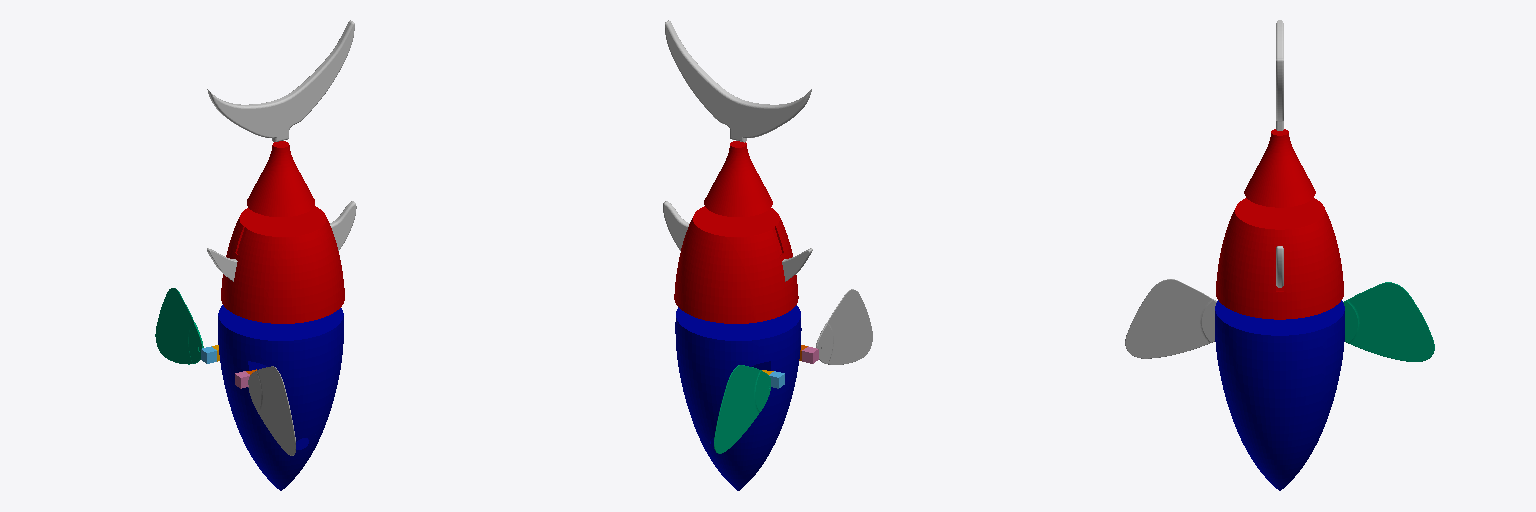
--- Render facts (derived) ---
3 views of the same robot in one strip: view 1: azimuth 30°, elevation 25°; view 2: azimuth 150°, elevation 25°; view 3: azimuth 270°, elevation 25° (orthographic).
Robot: naro — 17 links, 16 joints (9 revolute, 7 fixed); root link base_link; default pose: every joint at zero.
Links seen in each view (by area): view 1: base_link, NaroBody_2_link, Naro_caudal_fin_link, NaroBody_3_link, Naro_pectoral_fin_left_link, Naro_pectoral_fin_right_link, Naro_dorsal_fin_up_link; view 2: base_link, NaroBody_2_link, Naro_caudal_fin_link, NaroBody_3_link, Naro_pectoral_fin_left_link, Naro_pectoral_fin_right_link, Naro_dorsal_fin_up_link; view 3: base_link, NaroBody_2_link, Naro_pectoral_fin_right_link, Naro_pectoral_fin_left_link, NaroBody_3_link, Naro_caudal_fin_link.
Boxes of the visible links, left/top/right/bottom form: base_link: left=218, top=305, right=343, bottom=490; NaroBody_2_link: left=221, top=206, right=344, bottom=323; Naro_caudal_fin_link: left=207, top=20, right=354, bottom=141; NaroBody_3_link: left=247, top=141, right=314, bottom=216; Naro_pectoral_fin_left_link: left=155, top=288, right=203, bottom=364; Naro_pectoral_fin_right_link: left=248, top=366, right=295, bottom=455; Naro_dorsal_fin_up_link: left=330, top=201, right=356, bottom=250; base_link: left=675, top=305, right=801, bottom=490; NaroBody_2_link: left=674, top=206, right=798, bottom=323; Naro_caudal_fin_link: left=665, top=20, right=811, bottom=142; NaroBody_3_link: left=704, top=141, right=772, bottom=216; Naro_pectoral_fin_left_link: left=714, top=365, right=770, bottom=453; Naro_pectoral_fin_right_link: left=816, top=289, right=872, bottom=364; Naro_dorsal_fin_up_link: left=663, top=201, right=689, bottom=250; base_link: left=1215, top=300, right=1344, bottom=490; NaroBody_2_link: left=1216, top=198, right=1343, bottom=319; Naro_pectoral_fin_right_link: left=1125, top=279, right=1216, bottom=358; Naro_pectoral_fin_left_link: left=1343, top=282, right=1434, bottom=361; NaroBody_3_link: left=1244, top=129, right=1315, bottom=207; Naro_caudal_fin_link: left=1276, top=20, right=1283, bottom=130.
Bounding box of the posed robot: 0.1412 × 0.2483 × 0.4148 m (x, y, z).
Meshes: 7 distinct files referenced, 8 mesh visuals loaded (7 Collada DAE).

robot.urdf — naro:
<robot name="naro">

    <gazebo>
        <plugin name="gazebo_ros_control" filename="libgazebo_ros_control.so">
        </plugin>
    </gazebo>

	<!-- * * * Link Definitions * * * -->

    <link name="base_link">
 	    <inertial>
            <origin xyz="0 0 0.00" rpy="0 0 0"/>
            <mass value="1.639394969088" />
         <!--<mass value="1.29054912" />        -->       
            <inertia ixx="0.00508295639712" ixy="0.0" ixz="0.0" iyy="0.00507952547133" iyz="0.0" izz="0.00299176827366"/>
        </inertial>
        <collision>
            <origin rpy="0.0 0 0" xyz="0 0 0"/>
            <geometry>
                <mesh filename="package://naro_description/meshes/NaroBody_1_v3.dae"/>
            </geometry>
        </collision>
        <visual>
            <origin rpy="0.0 0 0" xyz="0 0 0"/>
            <geometry>
                <mesh filename="package://naro_description/meshes/NaroBody_1_v3.dae"/>
            </geometry>
        </visual>
	</link>
<!--camera-->
    <link name="camera">
        <inertial>
            <origin xyz="0 0 0" rpy="0 0 0"/>
            <mass value="0.001" />
         <!--<mass value="1.29054912" />        -->       
<inertia ixx="1.68373333333e-06" ixy="0.0" ixz="0.0" iyy="1.68373333333e-06" iyz="0.0" izz="1.68373333333e-06"/>
        </inertial>
        <collision>
            <origin rpy="0.0 0 0" xyz="0 0 0"/>
            <geometry>
                <box size="0.01 0.01 0.01" />
            </geometry>
        </collision>
        <visual>
            <origin rpy="0.0 0 0" xyz="0 0 0"/>
            <geometry>
                <box size="0.01 0.01 0.01" />
            </geometry>
        </visual>
	</link>
    <joint name="camera_joint" type="fixed">
    	<parent link="base_link"/>
    	<child link="camera"/>
        <origin xyz="0.015 0 -0.09" rpy="0 1.57 0"/>
	</joint>
    <gazebo reference="base_link">
        <kp>1000000.0</kp>
        <kd>1000000.0</kd>
        <mu1>10.0</mu1>
        <mu2>10.0</mu2>
    </gazebo>
    <gazebo reference="camera">
        <kp>1000000.0</kp>
        <kd>1000000.0</kd>
        <mu1>10.0</mu1>
        <mu2>10.0</mu2>
    </gazebo>
    
    <link name="NaroBody_2_link">
 	    <inertial>
            <origin xyz="0 0 0.0" rpy="0 0 0"/>
            <mass value="0.79" />
            <inertia ixx="0.00104500094658" ixy="0.0" ixz="0.0" iyy="0.00104595159967" iyz="0.0" izz="0.00140078747958"/>
        </inertial>
        <collision>
            <origin xyz="0 0 0" rpy="0 0 0"/>
            <geometry>
                <mesh filename="package://naro_description/meshes/NaroBody_2_v2.dae"/>
            </geometry>
        </collision>
        <visual>
            <origin xyz="0 0 0" rpy="0 0 0"/>
            <geometry>
                <mesh filename="package://naro_description/meshes/NaroBody_2_v2.dae"/>
            </geometry>
        </visual>
	</link>
    <!-- This is for color and physical properties in Gazebo, color won't work with the material tag in gazebo
    only for URDF coloring -->
    <gazebo reference="NaroBody_2_link">
        <kp>1000000.0</kp>
        <kd>1000000.0</kd>
        <mu1>10.0</mu1>
        <mu2>10.0</mu2>
    </gazebo>

    <joint name="NaroBody_1_NaroBody_2_joint" type="revolute">
    	<parent link="base_link"/>
    	<child link="NaroBody_2_link"/>
        <origin xyz="0 0 0.015" rpy="0 0 0"/>
        <limit lower="-0.5" upper="0.5" effort="0.3" velocity="5.5"/>
        <axis xyz="1 0 0"/>
	</joint>
	
    <transmission name="tran1">
        <type>transmission_interface/SimpleTransmission</type>
        <joint name="NaroBody_1_NaroBody_2_joint">
        <!--    <hardwareInterface>EffortJointInterface</hardwareInterface>-->
         <hardwareInterface>EffortJointInterface</hardwareInterface>
        </joint>
        <actuator name="motor1">
         <hardwareInterface>EffortJointInterface</hardwareInterface>
            <mechanicalReduction>1</mechanicalReduction>
        </actuator>
    </transmission>

    <link name="NaroBody_3_link">
 	    <inertial>
            <origin xyz="0 0 0.0" rpy="0 0 0"/>
            <mass value="0.185" />
            <inertia ixx="9.47004054167e-05" ixy="0.0" ixz="0.0" iyy="9.46651320833e-05" iyz="0.0" izz="0.000100881736417"/>
        </inertial>
        <collision>
            <origin xyz="0 0 0" rpy="0 0 0"/>
            <geometry>
                <mesh filename="package://naro_description/meshes/NaroBody_3.dae"/>
            </geometry>
        </collision>
        <visual>
            <origin xyz="0 0 0" rpy="0 0 0"/>
            <geometry>
                <mesh filename="package://naro_description/meshes/NaroBody_3.dae"/>
            </geometry>
        </visual>
	</link>
    <!-- This is for color and physical properties in Gazebo, color won't work with the material tag in gazebo
    only for URDF coloring -->
    <gazebo reference="NaroBody_3_link">
        <kp>1000000.0</kp>
        <kd>1000000.0</kd>
        <mu1>10.0</mu1>
        <mu2>10.0</mu2>
    </gazebo>

    <joint name="NaroBody_2_NaroBody_3_joint" type="revolute">
    	<parent link="NaroBody_2_link"/>
    	<child link="NaroBody_3_link"/>
        <origin xyz="0 0 0.0874" rpy="0 0 0"/>
        <limit lower="-0.5" upper="0.5" effort="0.2" velocity="5.5"/>
        <axis xyz="1 0 0"/>
	</joint>
	
    <transmission name="tran2">
        <type>transmission_interface/SimpleTransmission</type>
        <joint name="NaroBody_2_NaroBody_3_joint">
         <hardwareInterface>EffortJointInterface</hardwareInterface>
        </joint>
        <actuator name="motor2">
         <hardwareInterface>EffortJointInterface</hardwareInterface>
            <!--<hardwareInterface>EffortJointInterface</hardwareInterface>-->
            <mechanicalReduction>1</mechanicalReduction>
        </actuator>
    </transmission>
    
    
    <link name="Naro_caudal_fin_link">
 	    <inertial>
            <origin xyz="0 0 0.00" rpy="0 0 0"/>
            <mass value="0.122" />

            <inertia ixx="0.000284936540833" ixy="0.0" ixz="0.0" iyy="8.80707436833e-05" iyz="0.0" izz="0.000197862130483"/>
        </inertial>
        <collision>
            <origin xyz="0 0 0" rpy="0 0 0"/>
            <geometry>
                <mesh filename="package://naro_description/meshes/Naro_caudal_fin_v2.dae"/>
            </geometry>
        </collision>
        <visual>
            <origin xyz="0 0 0" rpy="0 0 0"/>
            <geometry>
                <mesh filename="package://naro_description/meshes/Naro_caudal_fin_v2.dae"/>
            </geometry>
        </visual>
	</link>
    <!-- This is for color and physical properties in Gazebo, color won't work with the material tag in gazebo
    only for URDF coloring -->
    <gazebo reference="Naro_caudal_fin_link">
        <kp>1000000.0</kp>
        <kd>1000000.0</kd>
        <mu1>10.0</mu1>
        <mu2>10.0</mu2>
    </gazebo>

    <joint name="NaroBody_3_Naro_caudal_fin_joint" type="revolute">
    	<parent link="NaroBody_3_link"/>
    	<child link="Naro_caudal_fin_link"/>
        <origin xyz="0 0 0.05757" rpy="0 0 0"/>
        <limit lower="-1.0" upper="1.0" effort="0.2" velocity="5.5"/>
        <axis xyz="1 0 0"/>
	</joint>
	
    <transmission name="tran3">
        <type>transmission_interface/SimpleTransmission</type>
        <joint name="NaroBody_3_Naro_caudal_fin_joint">
         <hardwareInterface>EffortJointInterface</hardwareInterface>
        </joint>
        <actuator name="motor3">
         <hardwareInterface>EffortJointInterface</hardwareInterface>
            <!--<hardwareInterface>EffortJointInterface</hardwareInterface>-->
            <mechanicalReduction>1</mechanicalReduction>
        </actuator>
    </transmission>
    
    
<!--3-dof Naro_pectoral_fin_right_link!-->    
    <link name="Naro_pectoral_fin_right_link_freedom1">
 	    <inertial>
            <origin xyz="0 0 0" rpy="0 0 0"/>
            <mass value="0.101024" />
<inertia ixx="1.68373333333e-06" ixy="0.0" ixz="0.0" iyy="1.68373333333e-06" iyz="0.0" izz="1.68373333333e-06"/>
        </inertial>
        <collision>
            <origin xyz="0 0 0" rpy="0 0 0"/>
            <geometry>
                <box size="0.01 0.01 0.01" />
            </geometry>
        </collision>
        <visual>
            <origin xyz="0 0 0" rpy="0 0 0"/>
            <geometry>
               <box size="0.01 0.01 0.01" />
            </geometry>
            <material name="purple"/>
        </visual>

	</link>
    <joint name="NaroBody_1_Naro_pectoral_fin_right_joint_1" type="revolute">
    	<parent link="base_link"/>
    	<child link="Naro_pectoral_fin_right_link_freedom1"/>
        <origin xyz="-0.04275 -0.028 -0.03622" rpy="1.5707963267948966 0 0"/>
        <limit lower="-1.0" upper="1.0" effort="0.2" velocity="1.5"/>
        <axis xyz="0 1 0"/>
	</joint>
    
    <link name="Naro_pectoral_fin_right_link_freedom2">
 	    <inertial>
            <origin xyz="0 0 0" rpy="0 0 0"/>
            <mass value="0.001024" />
            <inertia ixx="1.68373333333e-06" ixy="0.0" ixz="0.0" iyy="1.68373333333e-06" iyz="0.0" izz="1.68373333333e-06"/>
        </inertial>
        <collision>
            <origin xyz="0 0 0" rpy="0 0 0"/>
            <geometry>
                <box size="0.01 0.01 0.01" />
            </geometry>
        </collision>
        <visual>
            <origin xyz="0 0 0" rpy="0 0 0"/>
            <geometry>
               <box size="0.01 0.01 0.01" />
            </geometry>
            <material name="purple"/>
        </visual>
	</link>
    <joint name="NaroBody_1_Naro_pectoral_fin_right_joint_2" type="revolute">
    	<parent link="Naro_pectoral_fin_right_link_freedom1"/>
    	<child link="Naro_pectoral_fin_right_link_freedom2"/>
        <origin xyz="-0.01 0 0" rpy="0 0 0"/>
        <limit lower="-1.0" upper="1.0" effort="0.2" velocity="1.5"/>
        <axis xyz="1 0 0"/>
	</joint>



    <link name="Naro_pectoral_fin_right_link">
 	    <inertial>
            <origin xyz="0 0 0.04" rpy="0 0 0"/>
            <mass value="0.01" />   
            <inertia ixx="9.24708616667e-06" ixy="0.0" ixz="0.0" iyy="4.87263541667e-06" iyz="0.0" izz="4.37871741667e-06"/>
        </inertial>
        <collision>
            <origin xyz="0 0 0" rpy="0 0 0"/>
            <geometry>
                <mesh filename="package://naro_description/meshes/pectoral_fin.dae"/>                
            </geometry>
        </collision>
        <visual>
            <origin xyz="0 0 0" rpy="0 0 0"/>
            <geometry>
                <mesh filename="package://naro_description/meshes/pectoral_fin.dae"/>
            </geometry>
            <material name="purple"/>
        </visual>
	</link>
    <!-- This is for color and physical properties in Gazebo, color won't work with the material tag in gazebo
    only for URDF coloring -->
    <gazebo reference="Naro_pectoral_fin_right_link_freedom1">
        <kp>1000000.0</kp>
        <kd>1000000.0</kd>
        <mu1>10.0</mu1>
        <mu2>10.0</mu2>
        <material>Gazebo/Purple</material>
    </gazebo>
    <gazebo reference="Naro_pectoral_fin_right_link_freedom2">
        <kp>1000000.0</kp>
        <kd>1000000.0</kd>
        <mu1>10.0</mu1>
        <mu2>10.0</mu2>
        <material>Gazebo/Purple</material>
    </gazebo>
        <gazebo reference="Naro_pectoral_fin_right_link">
        <kp>1000000.0</kp>
        <kd>1000000.0</kd>
        <mu1>10.0</mu1>
        <mu2>10.0</mu2>
        <material>Gazebo/Purple</material>




    </gazebo>
    <joint name="NaroBody_1_Naro_pectoral_fin_right_joint_3" type="revolute">
    	<parent link="Naro_pectoral_fin_right_link_freedom2"/>
    	<child link="Naro_pectoral_fin_right_link"/>
        <origin xyz="0 0. 0.01" rpy="0 0 0"/>
        <limit lower="-1.57" upper="1.57" effort="0.7" velocity="1.5"/>
        <axis xyz="0 0 1"/>
	</joint>
    <transmission name="tran4_joint1">
        <type>transmission_interface/SimpleTransmission</type>
        <joint name="NaroBody_1_Naro_pectoral_fin_right_joint_1">
            <hardwareInterface>EffortJointInterface</hardwareInterface>
        </joint>
        <actuator name="motor4_1">
            <hardwareInterface>EffortJointInterface</hardwareInterface>
            <mechanicalReduction>1</mechanicalReduction>
        </actuator>
    </transmission>
    <transmission name="tran4_joint2">
        <type>transmission_interface/SimpleTransmission</type>
        <joint name="NaroBody_1_Naro_pectoral_fin_right_joint_2">
            <hardwareInterface>EffortJointInterface</hardwareInterface>
        </joint>
        <actuator name="motor4_2">
            <hardwareInterface>EffortJointInterface</hardwareInterface>
            <mechanicalReduction>1</mechanicalReduction>
        </actuator>
    </transmission>	
    <transmission name="tran4_joint3">
        <type>transmission_interface/SimpleTransmission</type>
        <joint name="NaroBody_1_Naro_pectoral_fin_right_joint_3">
            <hardwareInterface>EffortJointInterface</hardwareInterface>
        </joint>
        <actuator name="motor4_3">
            <hardwareInterface>EffortJointInterface</hardwareInterface>
            <mechanicalReduction>1</mechanicalReduction>
        </actuator>
    </transmission>
    
<!--3-dof Naro_pectoral_fin_left_link!--> 
    <link name="Naro_pectoral_fin_left_link_freedom1">
 	    <inertial>
            <origin xyz="0 0 0" rpy="0 0 0"/>
            <mass value="0.101024" />
<inertia ixx="1.68373333333e-06" ixy="0.0" ixz="0.0" iyy="1.68373333333e-06" iyz="0.0" izz="1.68373333333e-06"/>
        </inertial>
        <collision>
            <origin xyz="0 0 0" rpy="0 0 0"/>
            <geometry>
                <box size="0.01 0.01 0.01" />
            </geometry>
        </collision>
        <visual>
            <origin xyz="0 0 0" rpy="0 0 0"/>
            <geometry>
               <box size="0.01 0.01 0.01" />
            </geometry>
            <material name="purple"/>
        </visual>
	</link>
    <joint name="NaroBody_1_Naro_pectoral_fin_left_joint_1" type="revolute">
    	<parent link="base_link"/>
    	<child link="Naro_pectoral_fin_left_link_freedom1"/>
        <origin xyz="-0.04275 0.028 -0.03622" rpy="-1.5707963267948966 0 0"/>
        <limit lower="-1.0" upper="1.0" effort="0.2" velocity="1.5"/>
        <axis xyz="1 0 0"/>
	</joint>
    
    <link name="Naro_pectoral_fin_left_link_freedom2">
 	    <inertial>
            <origin xyz="0 0 0" rpy="0 0 0"/>
            <mass value="0.001024" />
            <inertia ixx="1.68373333333e-06" ixy="0.0" ixz="0.0" iyy="1.68373333333e-06" iyz="0.0" izz="1.68373333333e-06"/>
        </inertial>
        <collision>
            <origin xyz="0 0 0" rpy="0 0 0"/>
            <geometry>
                <box size="0.01 0.01 0.01" />
            </geometry>
        </collision>
        <visual>
            <origin xyz="0 0 0" rpy="0 0 0"/>
            <geometry>
               <box size="0.01 0.01 0.01" />
            </geometry>
            <material name="purple"/>
        </visual>
	</link>
    <joint name="NaroBody_1_Naro_pectoral_fin_left_joint_2" type="revolute">
    	<parent link="Naro_pectoral_fin_left_link_freedom1"/>
    	<child link="Naro_pectoral_fin_left_link_freedom2"/>
        <origin xyz="-0.01 0 0" rpy="0 0 0"/>
        <limit lower="-1" upper="1" effort="0.2" velocity="1.5"/>
        <axis xyz="0 1 0"/>
	</joint>
    <link name="Naro_pectoral_fin_left_link">
 	    <inertial>
            <origin xyz="0 0.0 0.04" rpy="0 0 0"/>
         <mass value="0.01" />   
            <inertia ixx="9.24708616667e-06" ixy="0.0" ixz="0.0" iyy="4.87263541667e-06" iyz="0.0" izz="4.37871741667e-06"/>
        </inertial>
        <collision>
            <origin xyz="0 0 0" rpy="0 0 0"/>
            <geometry>
                <mesh filename="package://naro_description/meshes/pectoral_fin.dae"/>
            </geometry>
        </collision>
        <visual>
            <origin xyz="0 0 0" rpy="0 0 0"/>
            <geometry>
                <mesh filename="package://naro_description/meshes/pectoral_fin.dae"/>
            </geometry>
            <material name="purple"/>
        </visual>
	</link>
    <!-- This is for color and physical properties in Gazebo, color won't work with the material tag in gazebo
    only for URDF coloring -->
    <gazebo reference="Naro_pectoral_fin_left_link_freedom1">
        <kp>1000000.0</kp>
        <kd>1000000.0</kd>
        <mu1>10.0</mu1>
        <mu2>10.0</mu2>
        <material>Gazebo/Purple</material>
    </gazebo>
    <gazebo reference="Naro_pectoral_fin_left_link_freedom2">
        <kp>1000000.0</kp>
        <kd>1000000.0</kd>
        <mu1>10.0</mu1>
        <mu2>10.0</mu2>
        <material>Gazebo/Purple</material>
    </gazebo>
    <gazebo reference="Naro_pectoral_fin_left_link">
        <kp>1000000.0</kp>
        <kd>1000000.0</kd>
        <mu1>10.0</mu1>
        <mu2>10.0</mu2>
        <material>Gazebo/Purple</material>



    </gazebo>

    <joint name="NaroBody_1_Naro_pectoral_fin_left_joint_3" type="revolute">
    	<parent link="Naro_pectoral_fin_left_link_freedom2"/>
    	<child link="Naro_pectoral_fin_left_link"/>
        <origin xyz="0 0 0.01" rpy="0 0 3.14"/>
        <limit lower="-1.57" upper="1.57" effort="0.7" velocity="1.5"/>
        <axis xyz="0 0 1"/>
	</joint>
	
    <transmission name="tran5_freedom1">
        <type>transmission_interface/SimpleTransmission</type>
        <joint name="NaroBody_1_Naro_pectoral_fin_left_joint_1">
            <hardwareInterface>EffortJointInterface</hardwareInterface>
        </joint>
        <actuator name="motor5_1">
            <hardwareInterface>EffortJointInterface</hardwareInterface>
            <mechanicalReduction>1</mechanicalReduction>
        </actuator>
    </transmission>
    <transmission name="tran5_freedom2">
        <type>transmission_interface/SimpleTransmission</type>
        <joint name="NaroBody_1_Naro_pectoral_fin_left_joint_2">
            <hardwareInterface>EffortJointInterface</hardwareInterface>
        </joint>
        <actuator name="motor5_2">
            <hardwareInterface>EffortJointInterface</hardwareInterface>
            <mechanicalReduction>1</mechanicalReduction>
        </actuator>
    </transmission>
    <transmission name="tran5_freedom3">
        <type>transmission_interface/SimpleTransmission</type>
        <joint name="NaroBody_1_Naro_pectoral_fin_left_joint_3">
            <hardwareInterface>EffortJointInterface</hardwareInterface>
        </joint>
        <actuator name="motor5_3">
            <hardwareInterface>EffortJointInterface</hardwareInterface>
            <mechanicalReduction>1</mechanicalReduction>
        </actuator>
    </transmission>
        
    <link name="Naro_dorsal_fin_up_link">
 	    <inertial>
            <origin xyz="0 0 0" rpy="0 0 0"/>
            <mass value="0.0065659994112" />
            <inertia ixx="1.62753862297e-06" ixy="0.0" ixz="0.0" iyy="8.85560936788e-07" iyz="0.0" izz="7.81373682648e-07"/>
        </inertial>
        <collision>
            <origin xyz="0 0 0" rpy="0 0 0"/>
            <geometry>
                <mesh filename="package://naro_description/meshes/Naro_dorsal_fin_up.dae"/>
            </geometry>
        </collision>
        <visual>
            <origin xyz="0 0 0" rpy="0 0 0"/>
            <geometry>
                <mesh filename="package://naro_description/meshes/Naro_dorsal_fin_up.dae"/>
            </geometry>
        </visual>
	</link>
	
	<gazebo reference="Naro_dorsal_fin_up_link">
        <kp>1000000.0</kp>
        <kd>1000000.0</kd>
        <mu1>10.0</mu1>
        <mu2>10.0</mu2>
    </gazebo>
    
    <joint name="NaroBody_1_Naro_dorsal_fin_up_joint" type="fixed">
        <parent link="NaroBody_2_link"/>
        <child link="Naro_dorsal_fin_up_link"/>
        <origin xyz="0.04088 0 0.04053" rpy="0 1.3 0"/>
    </joint>
    
    
        <link name="Naro_dorsal_fin_down_link">
 	    <inertial>
            <origin xyz="0 0 0" rpy="0 0 0"/>
            <mass value="0.0065659994112" />
            <inertia ixx="1.62753862297e-06" ixy="0.0" ixz="0.0" iyy="8.85560936788e-07" iyz="0.0" izz="7.81373682648e-07"/>
        </inertial>
        <collision>
            <origin xyz="0 0 0" rpy="0 0 0"/>
            <geometry>
                <mesh filename="package://naro_description/meshes/Naro_dorsal_fin_down_v2.dae"/>
            </geometry>
        </collision>
        <visual>
            <origin xyz="0 0 0" rpy="0 0 0"/>
            <geometry>
                <mesh filename="package://naro_description/meshes/Naro_dorsal_fin_down_v2.dae"/>
            </geometry>
            <material name="purple"/>
        </visual>
	</link>
	
	<gazebo reference="Naro_dorsal_fin_down_link">
        <kp>1000000.0</kp>
        <kd>1000000.0</kd>
        <mu1>10.0</mu1>
        <mu2>10.0</mu2>
    </gazebo>
    
    <joint name="NaroBody_1_Naro_dorsal_fin_down_joint" type="fixed">
        <parent link="NaroBody_2_link"/>
        <child link="Naro_dorsal_fin_down_link"/>
        <origin xyz="-0.04088 0 0.0362" rpy="0 -1.5707963267948966 0"/>
    </joint>


    <gazebo>
          <plugin name="lifting_surface4_1" filename="libLiftDragPlugin.so">

        <!-- taken from the lift curve figure -->
        <!-- alpha_0 is 5 degrees -->
        <a0>0</a0>
        <!-- alpha_stall is 19.3 degrees -->
        <alpha_stall>1.0</alpha_stall>
        <!-- slope of the lift curve to the left of the stall angle -->
        <cla>0</cla>
        <!-- slope of the lift curve to the right of the stall angle -->
        <cla_stall>0</cla_stall>

        <!-- below are just random values in this example -->
        <cda>0</cda>
        <cda_stall>1.1</cda_stall>
        <cma>1.5</cma>
        <cma_stall>0.0</cma_stall>
        <area>0.20</area>
        <fluid_density>1024.1</fluid_density>
        <forward>-1 0 0</forward>
        <upward>0 1 0</upward>
        <cp>0 0 0</cp>
        <link_name>base_link</link_name>
        <radial_symmetry>false</radial_symmetry>
      </plugin>
</gazebo>

    <gazebo>
          <plugin name="lifting_surface4_2" filename="libLiftDragPlugin.so">

        <!-- taken from the lift curve figure -->
        <!-- alpha_0 is 5 degrees -->
        <a0>0</a0>
        <!-- alpha_stall is 19.3 degrees -->
        <alpha_stall>1.0</alpha_stall>
        <!-- slope of the lift curve to the left of the stall angle -->
        <cla>0</cla>
        <!-- slope of the lift curve to the right of the stall angle -->
        <cla_stall>0</cla_stall>

        <!-- below are just random values in this example -->
        <cda>0</cda>
        <cda_stall>1.1</cda_stall>
        <cma>10.5</cma>
        <cma_stall>10.1</cma_stall>
        <area>0.20</area>
        <fluid_density>1024.1</fluid_density>
        <forward>-1 0 0</forward>
        <upward>0 0 1</upward>
        <cp>0 0 0</cp>
        <link_name>base_link</link_name>
        <radial_symmetry>false</radial_symmetry>
      </plugin>

    </gazebo>


        <gazebo>
          <plugin name="lifting_surface4_3" filename="libLiftDragPlugin.so">

        <!-- taken from the lift curve figure -->
        <!-- alpha_0 is 5 degrees -->
        <a0>0</a0>
        <!-- alpha_stall is 19.3 degrees -->
        <alpha_stall>1.0</alpha_stall>
        <!-- slope of the lift curve to the left of the stall angle -->
        <cla>0</cla>
        <!-- slope of the lift curve to the right of the stall angle -->
        <cla_stall>0</cla_stall>

        <!-- below are just random values in this example -->
        <cda>0</cda>
        <cda_stall>1.1</cda_stall>
        <cma>10.5</cma>
        <cma_stall>10.1</cma_stall>
        <area>0.20</area>
        <fluid_density>1024.1</fluid_density>
        <forward>0 -1 0</forward>
        <upward>0 0 1</upward>
        <cp>0 0 0</cp>
        <link_name>base_link</link_name>
        <radial_symmetry>false</radial_symmetry>
      </plugin>

    </gazebo>



    <gazebo>
      <plugin name="lifting_surface5" filename="libLiftDragPlugin.so">

        <!-- taken from the lift curve figure -->
        <!-- alpha_0 is 5 degrees -->
        <a0>0</a0>
        <!-- alpha_stall is 19.3 degrees -->
        <alpha_stall>1.57</alpha_stall>
        <!-- slope of the lift curve to the left of the stall angle -->
        <cla>0</cla>
        <!-- slope of the lift curve to the right of the stall angle -->
        <cla_stall>0</cla_stall>

        <!-- below are just random values in this example -->
        <cda>0</cda>
        <cda_stall>0</cda_stall>

        <area>0.20</area>
        <fluid_density>1024.1</fluid_density>
        <forward>-1 0 0</forward>
        <upward>0 1 0</upward>
        <cp>0 0 0</cp>
        <link_name>NaroBody_3_link</link_name>
        <radial_symmetry>false</radial_symmetry>
      </plugin>
    </gazebo>

    <gazebo>
      <plugin name="lifting_surface3" filename="libLiftDragPlugin.so">
            <air_density>1024</air_density>
	        <cla>0</cla>
	        <cla_stall>0</cla_stall>
	        <cda>3</cda>
	        <cda_stall>3</cda_stall>
	        <alpha_stall>0.7</alpha_stall>
	        <a0>0</a0>
            <area>0.3034265458342</area>
        <!-- below are just random values in this example -->
        <forward>-1 0 0</forward>
        <upward>0 1 0</upward>
        <cp>0 0.07 0</cp>
        <link_name>Naro_caudal_fin_link</link_name>
        <radial_symmetry>false</radial_symmetry>
      </plugin>
    </gazebo>

    <gazebo>
      <plugin name="lifting_surface1" filename="libLiftDragPlugin.so">
        <a0>0</a0>
        <alpha_stall>0.7</alpha_stall>
        <cla>3</cla>
        <cla_stall>-0.3</cla_stall>
        <cda>1.4</cda>
        <cda_stall>0</cda_stall>
        <air_density>1024</air_density>
        <area>0.006</area>
        <forward>0 -1 0</forward>
        <upward>-1 0 0</upward>
        <cp>0 0.0 0.04</cp>
        <link_name>Naro_pectoral_fin_left_link</link_name>
        <radial_symmetry>false</radial_symmetry>
      </plugin>    
    
    </gazebo>
    <gazebo>
    <plugin name="lifting_surface2" filename="libLiftDragPlugin.so">
        <a0>0</a0>
        <alpha_stall>0.7</alpha_stall>
        <cla>1.4</cla>
        <cla_stall>-0.3</cla_stall>
        <cda>1.4</cda>
        <cda_stall>0</cda_stall>
        <area>0.006</area>
        <air_density>1024</air_density>
        <cp>0 0.0 0.04</cp>
        <forward>0 -1 0</forward>
        <upward>1 0 0</upward>
        <link_name>Naro_pectoral_fin_right_link</link_name>
        <radial_symmetry>false</radial_symmetry>
      </plugin>
    

    </gazebo>
<!--fuli-->
    <gazebo>
          <plugin name="BuoyancyPlugin1" filename="libBuoyancyPlugin.so">
            <!-- a viscous liquid -->
            <fluid_density>1024</fluid_density>
        </plugin>
    </gazebo>
<!--IMU sensor-->
  <gazebo reference="camera">
    <gravity>true</gravity>
    <sensor name="imu_sensor" type="imu">
      <always_on>true</always_on>
      <update_rate>100</update_rate>
      <visualize>true</visualize>
      <topic>__default_topic__</topic>
      <plugin filename="libgazebo_ros_imu_sensor.so" name="imu_plugin">
        <topicName>imu</topicName>
        <bodyName>base_link</bodyName>
        <updateRateHZ>10.0</updateRateHZ>
        <gaussianNoise>0.0</gaussianNoise>
        <xyzOffset>0 0 0</xyzOffset>
        <rpyOffset>0 0 0</rpyOffset>
        <frameName>camera</frameName>
      </plugin>
      <pose>0 0 0 0 0 0</pose>
    </sensor>
  </gazebo>
<!--sonars-->
    <link name="sonar2">
        <inertial>
            <origin xyz="0 0 0" rpy="0 0 0"/>
            <mass value="0.001" />      
<inertia ixx="1.68373333333e-06" ixy="0.0" ixz="0.0" iyy="1.68373333333e-06" iyz="0.0" izz="1.68373333333e-06"/>
        </inertial>
        <collision>
            <origin rpy="0.0 0 0" xyz="0 0 0"/>
            <geometry>
                <box size="0.01 0.01 0.01" />
            </geometry>
        </collision>
        <visual>
            <origin rpy="0.0 0 0" xyz="0 0 0"/>
            <geometry>
                <box size="0.01 0.01 0.01" />
            </geometry>
        </visual>
	</link>
    <joint name="sonar_joint2" type="fixed">
    	<parent link="camera"/>
    	<child link="sonar2"/>
        <origin xyz="0.0 0 0.0" rpy="0 0 -0.4"/>
	</joint>
    <link name="sonar1">
        <inertial>
            <origin xyz="0 0 0" rpy="0 0 0"/>
            <mass value="0.001" />
         <!--<mass value="1.29054912" />        -->       
<inertia ixx="1.68373333333e-06" ixy="0.0" ixz="0.0" iyy="1.68373333333e-06" iyz="0.0" izz="1.68373333333e-06"/>
        </inertial>
        <collision>
            <origin rpy="0.0 0 0" xyz="0 0 0"/>
            <geometry>
                <box size="0.01 0.01 0.01" />
            </geometry>
        </collision>
        <visual>
            <origin rpy="0.0 0 0" xyz="0 0 0"/>
            <geometry>
                <box size="0.01 0.01 0.01" />
            </geometry>
        </visual>
	</link>
    <joint name="sonar_joint1" type="fixed">
    	<parent link="camera"/>
    	<child link="sonar1"/>
        <origin xyz="0.0 0 0.0" rpy="0 0 0.4"/>
	</joint>
    <gazebo reference="sonar1">
        <kp>1000000.0</kp>
        <kd>1000000.0</kd>
        <mu1>10.0</mu1>
        <mu2>10.0</mu2>
    </gazebo>
    <gazebo reference="sonar2">
        <kp>1000000.0</kp>
        <kd>1000000.0</kd>
        <mu1>10.0</mu1>
        <mu2>10.0</mu2>
    </gazebo>

    <link name="sonar3">
        <inertial>
            <origin xyz="0 0 0" rpy="0 0 0"/>
            <mass value="0.001" />
         <!--<mass value="1.29054912" />        -->       
<inertia ixx="1.68373333333e-06" ixy="0.0" ixz="0.0" iyy="1.68373333333e-06" iyz="0.0" izz="1.68373333333e-06"/>
        </inertial>
        <collision>
            <origin rpy="0.0 0 0" xyz="0 0 0"/>
            <geometry>
                <box size="0.01 0.01 0.01" />
            </geometry>
        </collision>
        <visual>
            <origin rpy="0.0 0 0" xyz="0 0 0"/>
            <geometry>
                <box size="0.01 0.01 0.01" />
            </geometry>
        </visual>
	</link>
    <joint name="sonar_joint3" type="fixed">
    	<parent link="camera"/>
    	<child link="sonar3"/>
        <origin xyz="0.0 0 0.0" rpy="0 -0.4 0"/>
	</joint>

    <link name="sonar4">
        <inertial>
            <origin xyz="0 0 0" rpy="0 0 0"/>
            <mass value="0.001" />
         <!--<mass value="1.29054912" />        -->       
<inertia ixx="1.68373333333e-06" ixy="0.0" ixz="0.0" iyy="1.68373333333e-06" iyz="0.0" izz="1.68373333333e-06"/>
        </inertial>
        <collision>
            <origin rpy="0.0 0 0" xyz="0 0 0"/>
            <geometry>
                <box size="0.01 0.01 0.01" />
            </geometry>
        </collision>
        <visual>
            <origin rpy="0.0 0 0" xyz="0 0 0"/>
            <geometry>
                <box size="0.01 0.01 0.01" />
            </geometry>
        </visual>
	</link>
    <joint name="sonar_joint4" type="fixed">
    	<parent link="camera"/>
    	<child link="sonar4"/>
        <origin xyz="0.0 0 0.0" rpy="0 0.4 0"/>
	</joint>
    <gazebo reference="sonar3">
        <kp>1000000.0</kp>
        <kd>1000000.0</kd>
        <mu1>10.0</mu1>
        <mu2>10.0</mu2>
    </gazebo>
    <gazebo reference="sonar4">
        <kp>1000000.0</kp>
        <kd>1000000.0</kd>
        <mu1>10.0</mu1>
        <mu2>10.0</mu2>
    </gazebo>




    <gazebo reference="camera">
      <sensor type="ray" name="sonar">
        <visualize>false</visualize>
        <update_rate>50</update_rate>
        <ray>
          <scan>
            <horizontal>
              <samples>10</samples>
              <resolution>1</resolution> 
              <min_angle>-0.05</min_angle>
              <max_angle>0.05</max_angle>
            </horizontal>
            <vertical>
              <samples>10</samples>
              <resolution>1</resolution> 
              <min_angle>-0.05</min_angle>
              <max_angle>0.05</max_angle> 
            </vertical>
          </scan>
          <range>
            <min>0.10</min>
            <max>3.5</max>
            <resolution>0.02</resolution>
          </range>
        </ray>
        <plugin filename="libgazebo_ros_range.so" name="gazebo_ros_range">
          <gaussianNoise>0.005</gaussianNoise>
          <alwaysOn>true</alwaysOn>
          <updateRate>50</updateRate>
          <topicName>sonar</topicName>
          <frameName>camera</frameName>
          <radiation>ultrasound</radiation>
          <fov>0.5</fov>
        </plugin>
      </sensor>
    </gazebo>

    <gazebo reference="sonar1">
      <sensor type="ray" name="sonar1">
        <origin xyz="0 0 0" rpy="0 0 -0.4"/>
        <visualize>false</visualize>
        <update_rate>50</update_rate>
        <ray>
          <scan>
            <horizontal>
              <samples>10</samples>
              <resolution>1</resolution> 
              <min_angle>-0.05</min_angle>
              <max_angle>0.05</max_angle>
            </horizontal>
            <vertical>
              <samples>10</samples>
              <resolution>1</resolution> 
              <min_angle>-0.05</min_angle>
              <max_angle>0.05</max_angle> 
            </vertical>
          </scan>
          <range>
            <min>0.10</min>
            <max>3.0</max>
            <resolution>0.02</resolution>
          </range>
        </ray>
        <plugin filename="libgazebo_ros_range.so" name="gazebo_ros_range">
          <gaussianNoise>0.005</gaussianNoise>
          <alwaysOn>true</alwaysOn>
          <updateRate>50</updateRate>
          <topicName>sonar1</topicName>
          <frameName>sonar1</frameName>
          <radiation>ultrasound</radiation>
          <fov>0.5</fov>
        </plugin>
      </sensor>
    </gazebo>
    <gazebo reference="sonar2">
      <sensor type="ray" name="sonar2">
        <origin xyz="0 0 0" rpy="0 0 0.4"/>
        <visualize>false</visualize>
        <update_rate>50</update_rate>
        <ray>
          <scan>
            <horizontal>
              <samples>10</samples>
              <resolution>1</resolution> 
              <min_angle>-0.05</min_angle>
              <max_angle>0.05</max_angle>
            </horizontal>
            <vertical>
              <samples>10</samples>
              <resolution>1</resolution> 
              <min_angle>-0.05</min_angle>
              <max_angle>0.05</max_angle> 
            </vertical>
          </scan>
          <range>
            <min>0.10</min>
            <max>3.0</max>
            <resolution>0.02</resolution>
          </range>
        </ray>
        <plugin filename="libgazebo_ros_range.so" name="gazebo_ros_range">
          <gaussianNoise>0.005</gaussianNoise>
          <alwaysOn>true</alwaysOn>
          <updateRate>50</updateRate>
          <topicName>sonar2</topicName>
          <frameName>sonar2</frameName>
          <radiation>ultrasound</radiation>
          <fov>0.5</fov>
        </plugin>
      </sensor>
    </gazebo>
    <gazebo reference="sonar3">
      <sensor type="ray" name="sonar3">
        <origin xyz="0 0 0" rpy="0 0 0.4"/>
        <visualize>false</visualize>
        <update_rate>50</update_rate>
        <ray>
          <scan>
            <horizontal>
              <samples>10</samples>
              <resolution>1</resolution> 
              <min_angle>-0.05</min_angle>
              <max_angle>0.05</max_angle>
            </horizontal>
            <vertical>
              <samples>10</samples>
              <resolution>1</resolution> 
              <min_angle>-0.05</min_angle>
              <max_angle>0.05</max_angle> 
            </vertical>
          </scan>
          <range>
            <min>0.10</min>
            <max>3.0</max>
            <resolution>0.02</resolution>
          </range>
        </ray>
        <plugin filename="libgazebo_ros_range.so" name="gazebo_ros_range">
          <gaussianNoise>0.005</gaussianNoise>
          <alwaysOn>true</alwaysOn>
          <updateRate>50</updateRate>
          <topicName>sonar3</topicName>
          <frameName>sonar3</frameName>
          <radiation>ultrasound</radiation>
          <fov>0.5</fov>
        </plugin>
      </sensor>
    </gazebo>
<!--
   <gazebo reference="sonar4">
      <sensor type="ray" name="sonar4">
        <origin xyz="0 0 0" rpy="0 0 0.4"/>
        <visualize>false</visualize>
        <update_rate>50</update_rate>
        <ray>
          <scan>
            <horizontal>
              <samples>10</samples>
              <resolution>1</resolution> 
              <min_angle>-0.05</min_angle>
              <max_angle>0.05</max_angle>
            </horizontal>
            <vertical>
              <samples>10</samples>
              <resolution>1</resolution> 
              <min_angle>-0.05</min_angle>
              <max_angle>0.05</max_angle> 
            </vertical>
          </scan>
          <range>
            <min>0.10</min>
            <max>3.0</max>
            <resolution>0.02</resolution>
          </range>
        </ray>
        <plugin filename="libgazebo_ros_range.so" name="gazebo_ros_range">
          <gaussianNoise>0.005</gaussianNoise>
          <alwaysOn>true</alwaysOn>
          <updateRate>50</updateRate>
          <topicName>sonar4</topicName>
          <frameName>sonar4</frameName>
          <radiation>ultrasound</radiation>
          <fov>0.5</fov>
        </plugin>
      </sensor>
    </gazebo>
-->


  <gazebo reference="camera">
    <sensor type="camera" name="camera1">
      <update_rate>30.0</update_rate>
      <camera name="head">
        <horizontal_fov>1.3962634</horizontal_fov>
        <image>
          <width>800</width>
          <height>800</height>
          <format>R8G8B8</format>
        </image>
        <clip>
          <near>0.02</near>
          <far>300</far>
        </clip>
        <noise>
          <type>gaussian</type>

          <mean>0.0</mean>
          <stddev>0.007</stddev>
        </noise>
      </camera>
      <plugin name="camera_controller" filename="libgazebo_ros_camera.so">
        <alwaysOn>true</alwaysOn>
        <updateRate>0.0</updateRate>
        <cameraName>rrbot/camera1</cameraName>
        <imageTopicName>image_raw</imageTopicName>
        <cameraInfoTopicName>camera_info</cameraInfoTopicName>
        <frameName>camera_link</frameName>
        <hackBaseline>0.07</hackBaseline>
        <distortionK1>0.0</distortionK1>
        <distortionK2>0.0</distortionK2>
        <distortionK3>0.0</distortionK3>
        <distortionT1>0.0</distortionT1>
        <distortionT2>0.0</distortionT2>
      </plugin>
    </sensor>
  </gazebo>


    
</robot>
